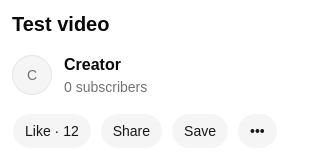
Test: VideoDetails likes › toggles a video like on and off
Click the button "Like · 12" at [52, 131], box [12,113,92,149]
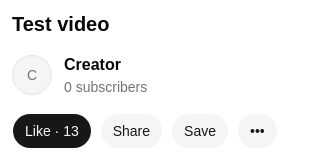
Check: the button "Like · 13" is pressed
Click the button "Like · 13" at [52, 131], box [12,113,92,149]
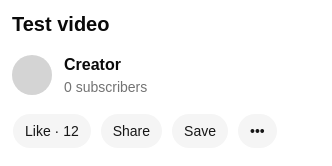
Check: the button "Like · 12" is not pressed, box [12,113,92,149]
